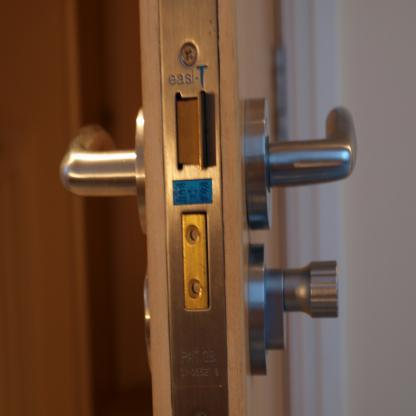door: (137, 0, 299, 413)
hinged: (272, 42, 288, 144)
lever: (258, 98, 359, 194), (58, 119, 140, 206)
